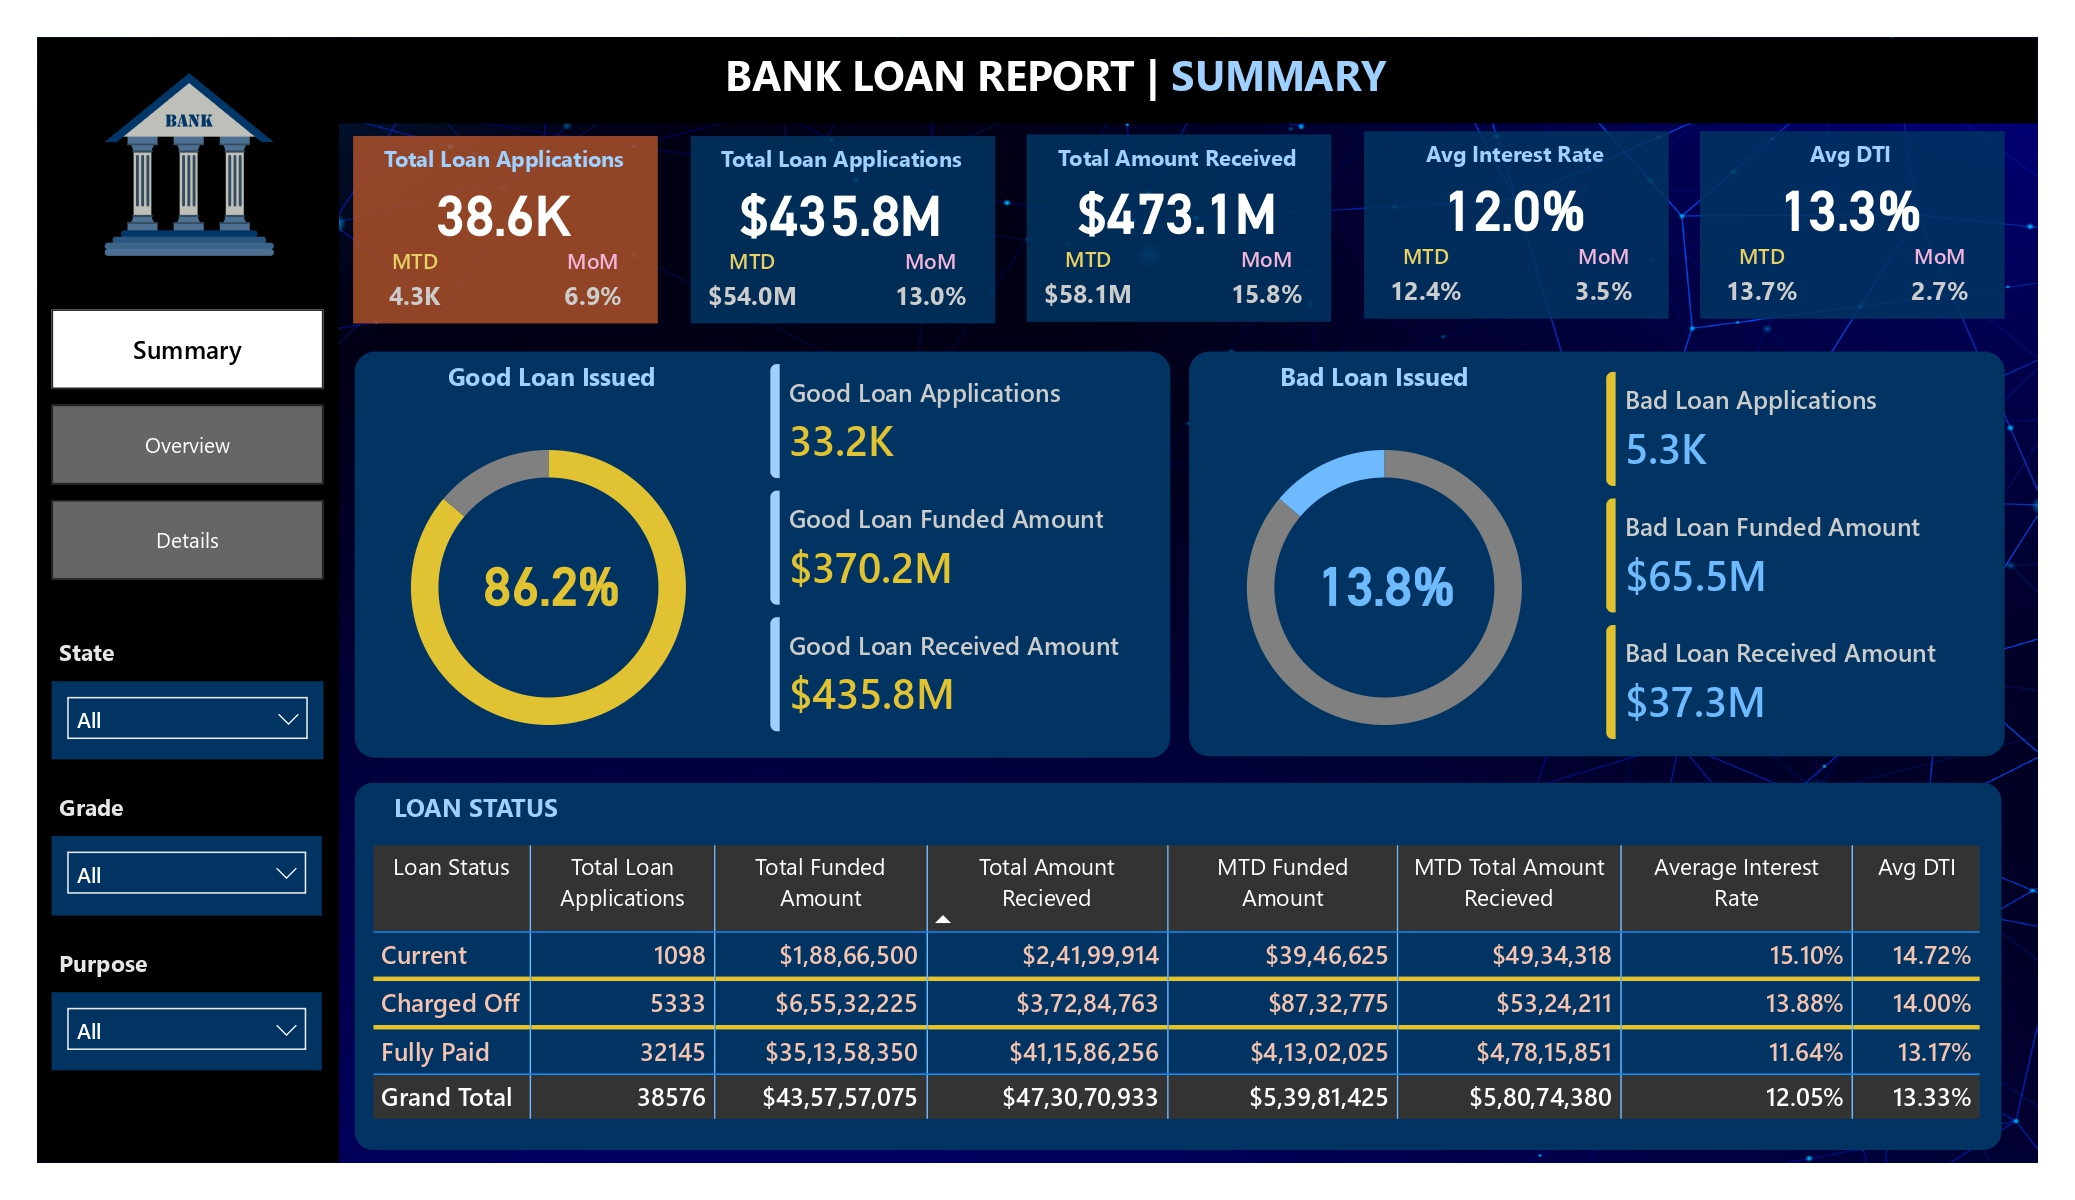

What the dashboard file says about the page in this screenshot:
{"tool":"powerbi","page":{"name":"Summary","canvas":[1280,720],"ordinal":0},"visuals":[{"type":"shape","box":[0,45.3,193,674.4],"z":0},{"type":"shape","box":[0,0,1280.3,55],"z":1000},{"type":"textbox","box":[434.6,0,439.5,55.6],"z":2000},{"type":"shape","box":[848.6,60.5,195.1,120],"z":3000,"group":"g4"},{"type":"shape","box":[1064.1,60.5,195.1,120],"z":3000,"group":"g5"},{"type":"shape","box":[633.2,61.6,195.1,120],"z":3000,"group":"g3"},{"type":"group","id":"g1","title":"Group 1","box":[202.3,62.8,195.3,119.8],"z":3000},{"type":"shape","box":[202.4,62.8,195.1,120],"z":3000,"group":"g1"},{"type":"shape","box":[417.8,62.8,195.1,120],"z":3000,"group":"g2"},{"type":"group","id":"g2","title":"Group 1","box":[417.7,62.8,195.3,119.8],"z":4000},{"type":"card","fields":{"Values":["Bank_Loan_data.Average Interest Rate"]},"box":[849.7,78.7,189.4,60],"z":4000,"group":"g4"},{"type":"card","fields":{"Values":["Bank_Loan_data.Avg DTI"]},"box":[1065.2,78.7,189.4,60],"z":4000,"group":"g5"},{"type":"card","fields":{"Values":["Bank_Loan_data.Total Amount Recieved"]},"box":[634.3,79.8,189.4,60],"z":4000,"group":"g3"},{"type":"card","fields":{"Values":["Bank_Loan_data.Total Loan Applications"]},"box":[203.5,81,189.4,60],"z":4000,"group":"g1"},{"type":"card","fields":{"Values":["Bank_Loan_data.Total Funded Amount"]},"box":[418.9,81,189.4,60],"z":4000,"group":"g2"},{"type":"textbox","box":[848.6,60.5,192.6,35.8],"z":5000,"group":"g4"},{"type":"textbox","box":[1064.1,60.5,192.6,35.8],"z":5000,"group":"g5"},{"type":"textbox","box":[633.2,61.6,192.6,35.8],"z":5000,"group":"g3"},{"type":"textbox","box":[202.4,62.8,192.6,35.8],"z":5000,"group":"g1"},{"type":"textbox","box":[417.8,62.8,192.6,35.8],"z":5000,"group":"g2"},{"type":"shape","box":[203.5,201.2,522,260],"z":5000},{"type":"card","title":"MTD","fields":{"Values":["Bank_Loan_data.MTD Avg Int Rate"]},"box":[848.5,131.6,78.8,48.2],"z":6000,"group":"g4"},{"type":"card","title":"MTD","fields":{"Values":["Bank_Loan_data.MTD Avg DTI"]},"box":[1064,131.6,78.8,48.2],"z":6000,"group":"g5"},{"type":"card","title":"MTD","fields":{"Values":["Bank_Loan_data.MTD Total Amount Recieved"]},"box":[633.1,132.7,78.8,48.2],"z":6000,"group":"g3"},{"type":"card","title":"MTD","fields":{"Values":["Bank_Loan_data.MTD Loan Applications"]},"box":[202.3,133.9,78.8,48.2],"z":6000,"group":"g1"},{"type":"card","title":"MTD","fields":{"Values":["Bank_Loan_data.MTD Funded Amount"]},"box":[417.7,133.9,78.8,48.2],"z":6000,"group":"g2"},{"type":"card","fields":{"Values":["Bank_Loan_data.Good Loan %"]},"box":[266.3,318.6,125.6,59.3],"z":6000},{"type":"card","title":"MoM","fields":{"Values":["Bank_Loan_data.MoM Avg Int Rate"]},"box":[962.6,131.6,78.8,48.2],"z":7000,"group":"g4"},{"type":"card","title":"MoM","fields":{"Values":["Bank_Loan_data.MoM Avg DTI"]},"box":[1178.1,131.6,78.8,48.2],"z":7000,"group":"g5"},{"type":"card","title":"MoM","fields":{"Values":["Bank_Loan_data.MoM Total Amount Recieved"]},"box":[747.2,132.7,78.8,48.2],"z":7000,"group":"g3"},{"type":"card","title":"MoM","fields":{"Values":["Bank_Loan_data.MoM Loan Application"]},"box":[316.4,133.9,78.8,48.2],"z":7000,"group":"g1"},{"type":"card","title":"MoM","fields":{"Values":["Bank_Loan_data.MoM Total Funded Amount"]},"box":[531.8,133.9,78.8,48.2],"z":7000,"group":"g2"},{"type":"textbox","box":[223.3,201.2,211.6,36],"z":7000},{"type":"group","id":"g3","title":"Group 1","box":[633.1,61.6,195.3,119.8],"z":8000},{"type":"donutChart","fields":{"Category":["Bank_Loan_data.Good vs Bad Loan "],"Y":["Bank_Loan_data.Total Loan Applications"]},"box":[202.3,237.2,250,230.2],"z":9000},{"type":"group","id":"g4","title":"Group 1","box":[848.5,60.5,195.3,119.8],"z":10000},{"type":"group","id":"g5","title":"Group 1","box":[1064,60.5,195.3,119.8],"z":11000},{"type":"shape","box":[737.2,201.2,522.1,259.3],"z":12000},{"type":"cardVisual","fields":{"Data":["Bank_Loan_data.Good Loan Applications","Bank_Loan_data.Good Loan Funded Amount","Bank_Loan_data.Good Loan Received Amount"]},"box":[452.3,191.9,279.1,269.8],"z":13000},{"type":"donutChart","fields":{"Category":["Bank_Loan_data.Good vs Bad Loan "],"Y":["Bank_Loan_data.Total Loan Applications"]},"box":[737.2,237.2,250,230.2],"z":14000},{"type":"textbox","box":[747.7,201.2,215.1,36],"z":15000},{"type":"card","fields":{"Values":["Bank_Loan_data.Bad Loan %"]},"box":[800,318.6,125.6,59.3],"z":16000},{"type":"cardVisual","fields":{"Data":["Bank_Loan_data.Bad Loan Applications","Bank_Loan_data.Bad Loan Funded Amount","Bank_Loan_data.Bad Loan Received Amount"]},"box":[987.2,196.5,279.1,269.8],"z":17000},{"type":"shape","box":[203.5,476.7,1053.5,234.9],"z":18000},{"type":"tableEx","fields":{"Values":["Bank_Loan_data.loan_status","Bank_Loan_data.Total Loan Applications","Bank_Loan_data.Total Funded Amount","Bank_Loan_data.Total Amount Recieved","Bank_Loan_data.MTD Funded Amount","Bank_Loan_data.MTD Total Amount Recieved","Bank_Loan_data.Average Interest Rate","Bank_Loan_data.Avg DTI"]},"box":[209.3,511.6,1043,188.4],"z":19000},{"type":"textbox","box":[223.3,476.7,252.3,34.9],"z":20000},{"type":"slicer","fields":{"Values":["Bank_Loan_data.address_state"]},"box":[9.3,411.6,173.3,50],"z":21000},{"type":"textbox","box":[9.3,377.9,73.3,33.7],"z":22000},{"type":"slicer","fields":{"Values":["Bank_Loan_data.grade"]},"box":[8.9,511.4,173.1,50.2],"z":23000},{"type":"textbox","box":[8.9,476.8,73.7,33.5],"z":24000},{"type":"slicer","fields":{"Values":["Bank_Loan_data.purpose"]},"box":[8.9,610.8,173.1,50.2],"z":25000},{"type":"textbox","box":[8.9,577.3,73.7,33.5],"z":26000},{"type":"image","box":[0,3.5,193,155.8],"z":27000},{"type":"pageNavigator","box":[9.3,174.4,173.3,174.4],"z":28000}]}

Visuals, with their boxes on the page's 1280x720 design canvas (x1, y1, x2, y2). These are canvas units, not pixel positions in the 2075x1200 screenshot, which may show the page scaled, cropped or inside an application window:
shape: (0, 45, 193, 720)
shape: (0, 0, 1280, 55)
textbox: (435, 0, 874, 56)
shape: (849, 60, 1044, 180)
shape: (1064, 60, 1259, 180)
shape: (633, 62, 828, 182)
"Group 1" group: (202, 63, 398, 183)
shape: (202, 63, 398, 183)
shape: (418, 63, 613, 183)
"Group 1" group: (418, 63, 613, 183)
card - Bank_Loan_data.Average Interest Rate: (850, 79, 1039, 139)
card - Bank_Loan_data.Avg DTI: (1065, 79, 1255, 139)
card - Bank_Loan_data.Total Amount Recieved: (634, 80, 824, 140)
card - Bank_Loan_data.Total Loan Applications: (204, 81, 393, 141)
card - Bank_Loan_data.Total Funded Amount: (419, 81, 608, 141)
textbox: (849, 60, 1041, 96)
textbox: (1064, 60, 1257, 96)
textbox: (633, 62, 826, 97)
textbox: (202, 63, 395, 99)
textbox: (418, 63, 610, 99)
shape: (204, 201, 726, 461)
"MTD" card: (848, 132, 927, 180)
"MTD" card: (1064, 132, 1143, 180)
"MTD" card: (633, 133, 712, 181)
"MTD" card: (202, 134, 281, 182)
"MTD" card: (418, 134, 496, 182)
card - Bank_Loan_data.Good Loan %: (266, 319, 392, 378)
"MoM" card: (963, 132, 1041, 180)
"MoM" card: (1178, 132, 1257, 180)
"MoM" card: (747, 133, 826, 181)
"MoM" card: (316, 134, 395, 182)
"MoM" card: (532, 134, 611, 182)
textbox: (223, 201, 435, 237)
"Group 1" group: (633, 62, 828, 181)
donutChart - Bank_Loan_data.Good vs Bad Loan  x Bank_Loan_data.Total Loan Applications: (202, 237, 452, 467)
"Group 1" group: (848, 60, 1044, 180)
"Group 1" group: (1064, 60, 1259, 180)
shape: (737, 201, 1259, 460)
cardVisual - Bank_Loan_data.Good Loan Applications x Bank_Loan_data.Good Loan Funded Amount: (452, 192, 731, 462)
donutChart - Bank_Loan_data.Good vs Bad Loan  x Bank_Loan_data.Total Loan Applications: (737, 237, 987, 467)
textbox: (748, 201, 963, 237)
card - Bank_Loan_data.Bad Loan %: (800, 319, 926, 378)
cardVisual - Bank_Loan_data.Bad Loan Applications x Bank_Loan_data.Bad Loan Funded Amount: (987, 196, 1266, 466)
shape: (204, 477, 1257, 712)
tableEx - Bank_Loan_data.loan_status x Bank_Loan_data.Total Loan Applications: (209, 512, 1252, 700)
textbox: (223, 477, 476, 512)
slicer - Bank_Loan_data.address_state: (9, 412, 183, 462)
textbox: (9, 378, 83, 412)
slicer - Bank_Loan_data.grade: (9, 511, 182, 562)
textbox: (9, 477, 83, 510)
slicer - Bank_Loan_data.purpose: (9, 611, 182, 661)
textbox: (9, 577, 83, 611)
image: (0, 4, 193, 159)
pageNavigator: (9, 174, 183, 349)
